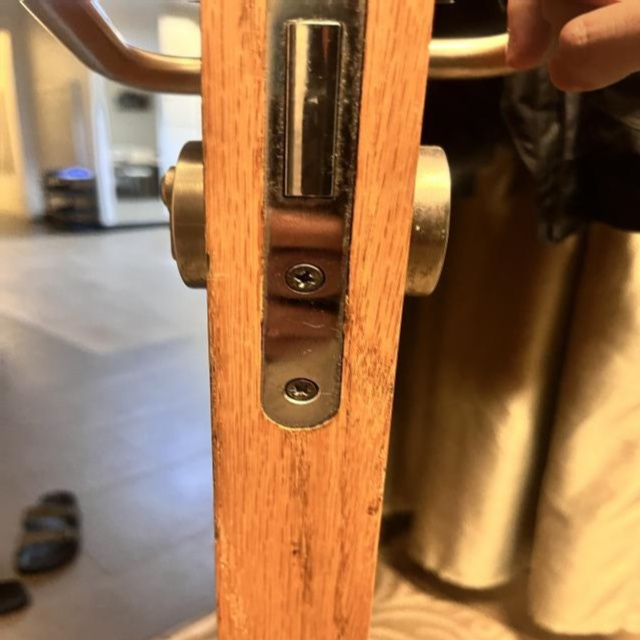phillips: (283, 263, 324, 293)
pozidriv: (283, 378, 317, 400)
